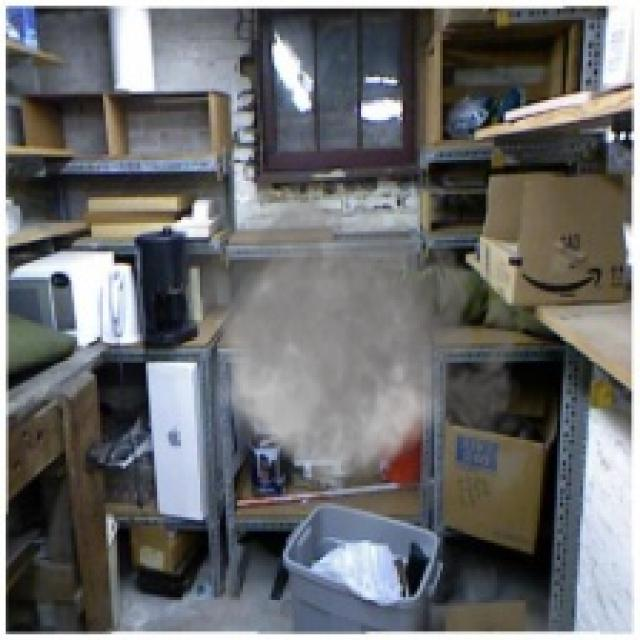smoke: (163, 166, 543, 554)
